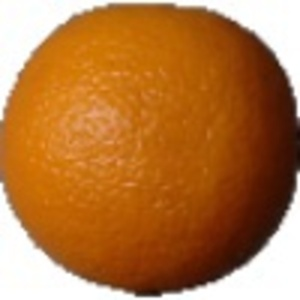laranja: (2, 3, 296, 298)
